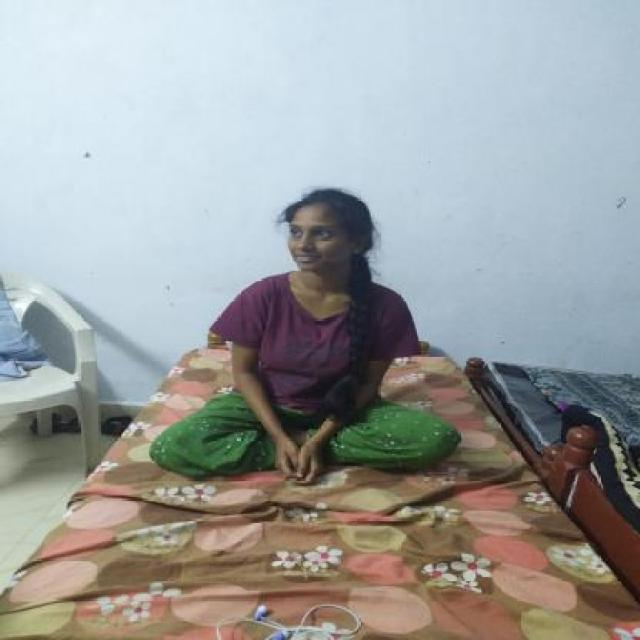cheating: (203, 177, 437, 394)
